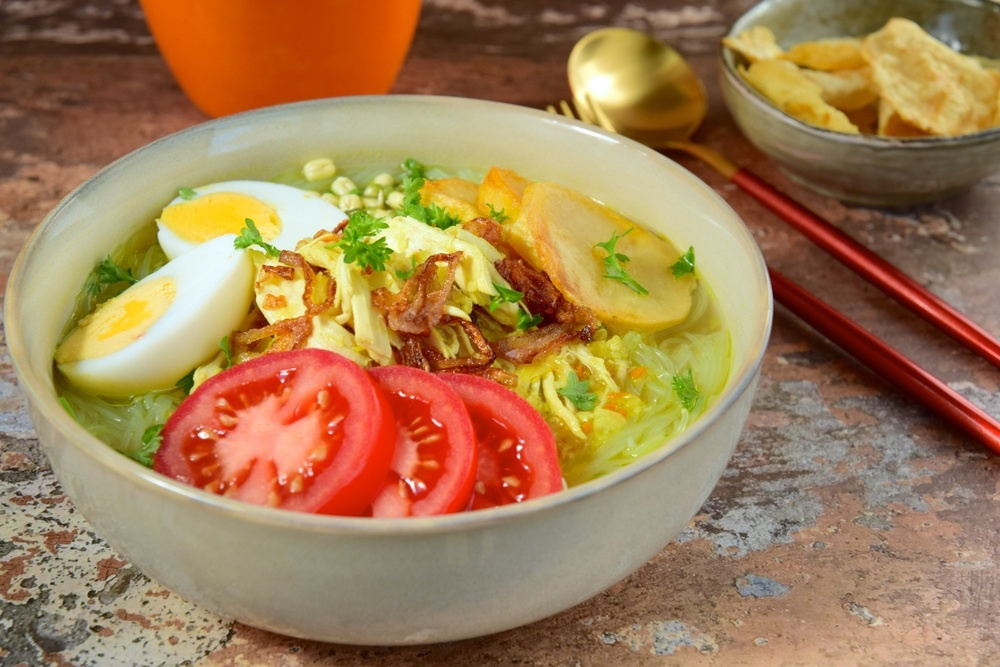soto: (14, 90, 747, 536)
